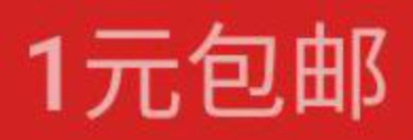TextView: (1, 1, 412, 139)
